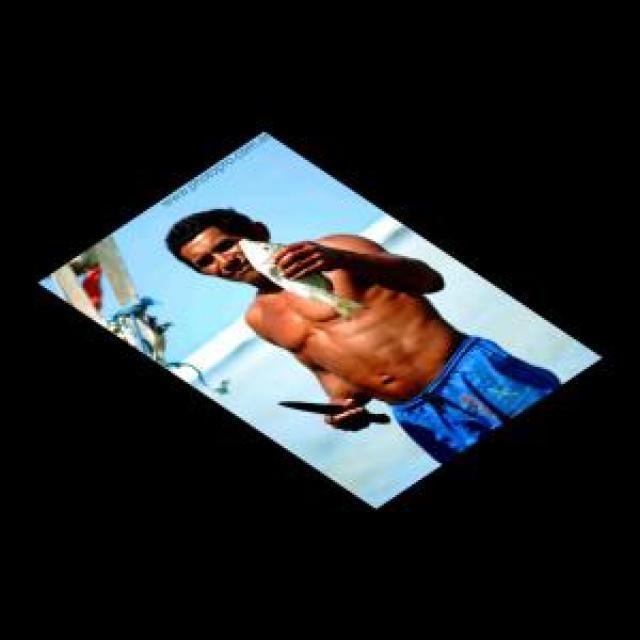knife: (267, 399, 398, 427)
